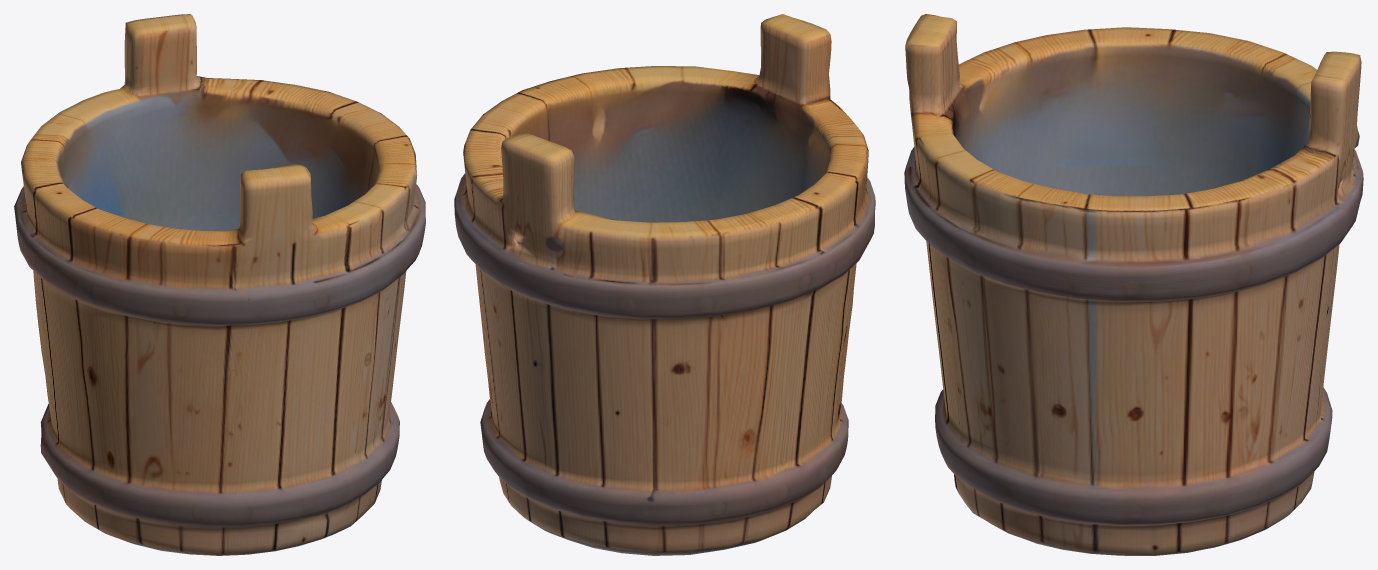
Rendered from tripo_convert_5da55ca7-579f-4e2d-a597-d3ef7f8f9fbc.glb.
The picture shows the model from 3 angles, left to right: view 1: azimuth 30°, elevation 25°; view 2: azimuth 150°, elevation 25°; view 3: azimuth 270°, elevation 25°; orthographic projection. The views are drawn at different scales.
Visible parts, largest first — view 1: tripo_node_5da55ca7-579f-4e2d-a597-d3ef7f8f9fbc; view 2: tripo_node_5da55ca7-579f-4e2d-a597-d3ef7f8f9fbc; view 3: tripo_node_5da55ca7-579f-4e2d-a597-d3ef7f8f9fbc.
Part boxes in pixels (box(x1,y1,x2,y2)): tripo_node_5da55ca7-579f-4e2d-a597-d3ef7f8f9fbc: box(14, 14, 425, 555); tripo_node_5da55ca7-579f-4e2d-a597-d3ef7f8f9fbc: box(454, 14, 875, 555); tripo_node_5da55ca7-579f-4e2d-a597-d3ef7f8f9fbc: box(904, 14, 1363, 555).
Bounding box in the file's own units: 0.8678 × 0.9483 × 0.8726.
1 material, 1 textured.
